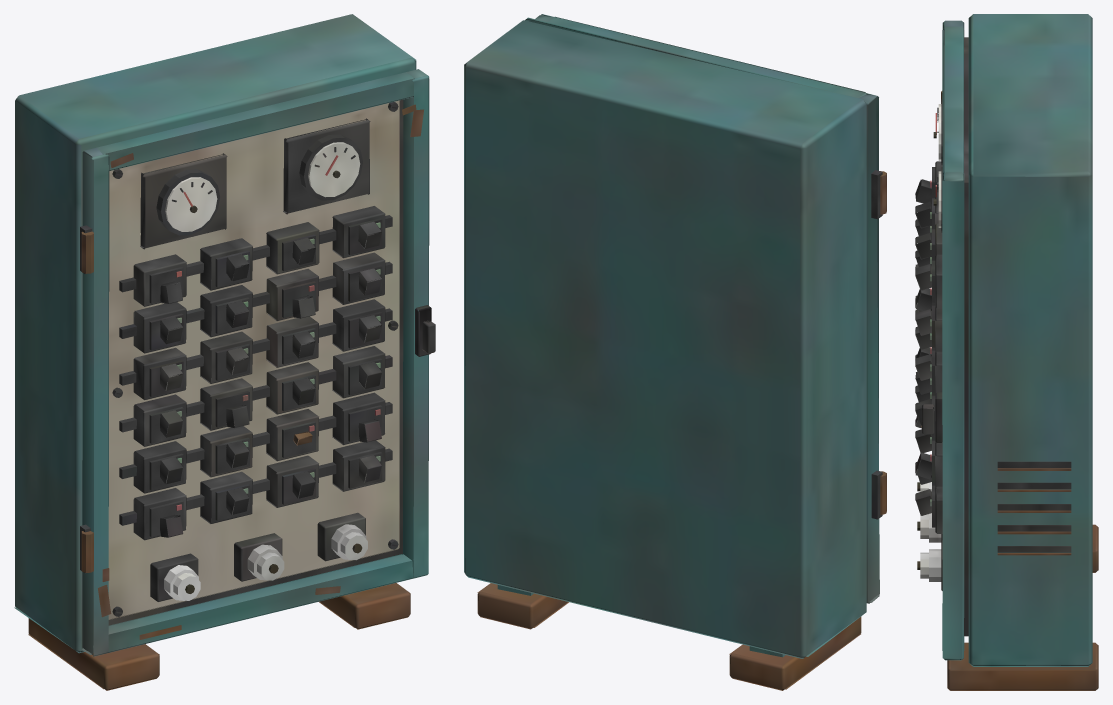
The model's file is U17_big_fuse_panel.glb.
3 views of the same model, side by side, from view 1: azimuth 30°, elevation 25°; view 2: azimuth 150°, elevation 25°; view 3: azimuth 270°, elevation 25° (orthographic). The views are drawn at different scales.
Visible parts, largest first — view 1: Floor mounting shoe; view 2: Floor mounting shoe; view 3: Floor mounting shoe.
Boxes of the visible parts, bbox=[...] form: Floor mounting shoe: bbox=[14, 14, 435, 690]; Floor mounting shoe: bbox=[464, 14, 886, 690]; Floor mounting shoe: bbox=[915, 14, 1098, 690].
Bounding box in the file's own units: 1 × 1.5 × 0.4722.
11 materials, 11 textured.
